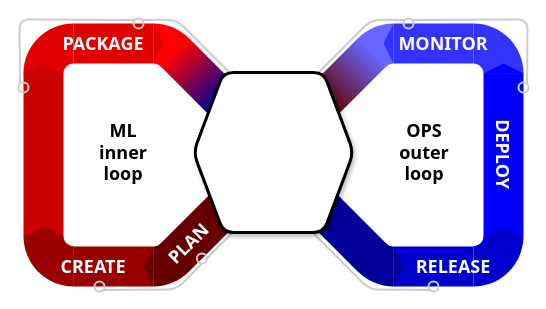
Image size: 546x309. Some labels were removed from this diagram. Each missing label, with the centre of its shape:
"Model Registry" belongs at [274,153].
"VERIFY" belongs at [43,154].
